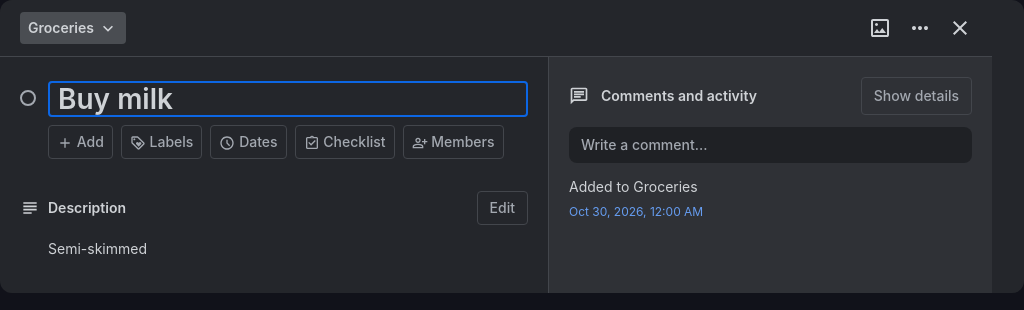
Test: EditTaskcardModalComponent › editing the title › cancels on Esc without closing the dialog
The width and height of the screenshot is (1024, 310).
Step 1. Replace the text in the text box named "Card title" with "Changed my mind" → (288, 99), box [48,81,528,117]
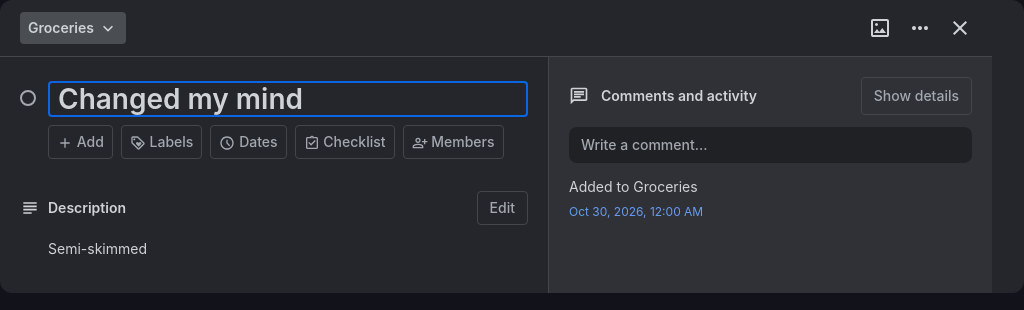
Step 2. Press Escape in the text box named "Card title", box [48,81,528,117]
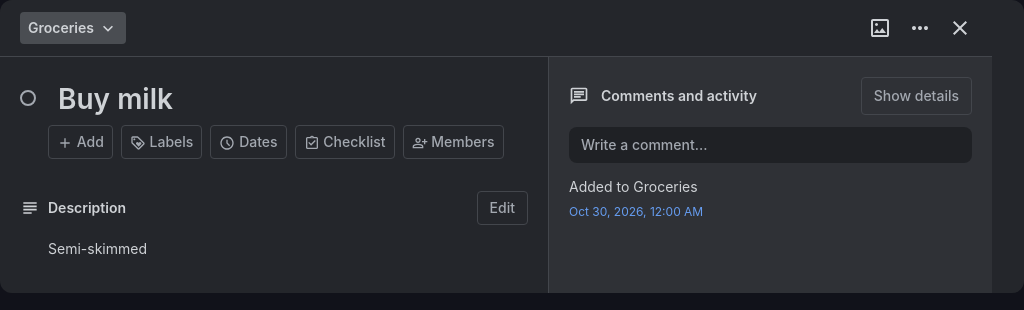
Expected: the text box named "Card title" holds "Buy milk", [48,81,528,117]
